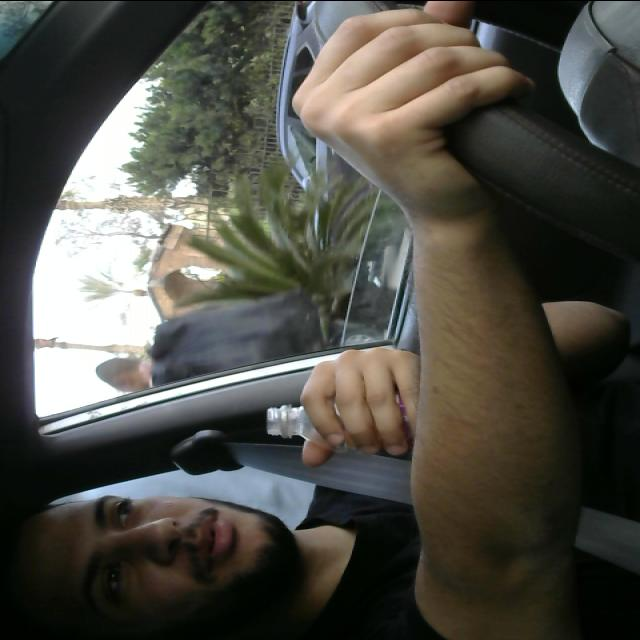drinking: (267, 384, 503, 456)
